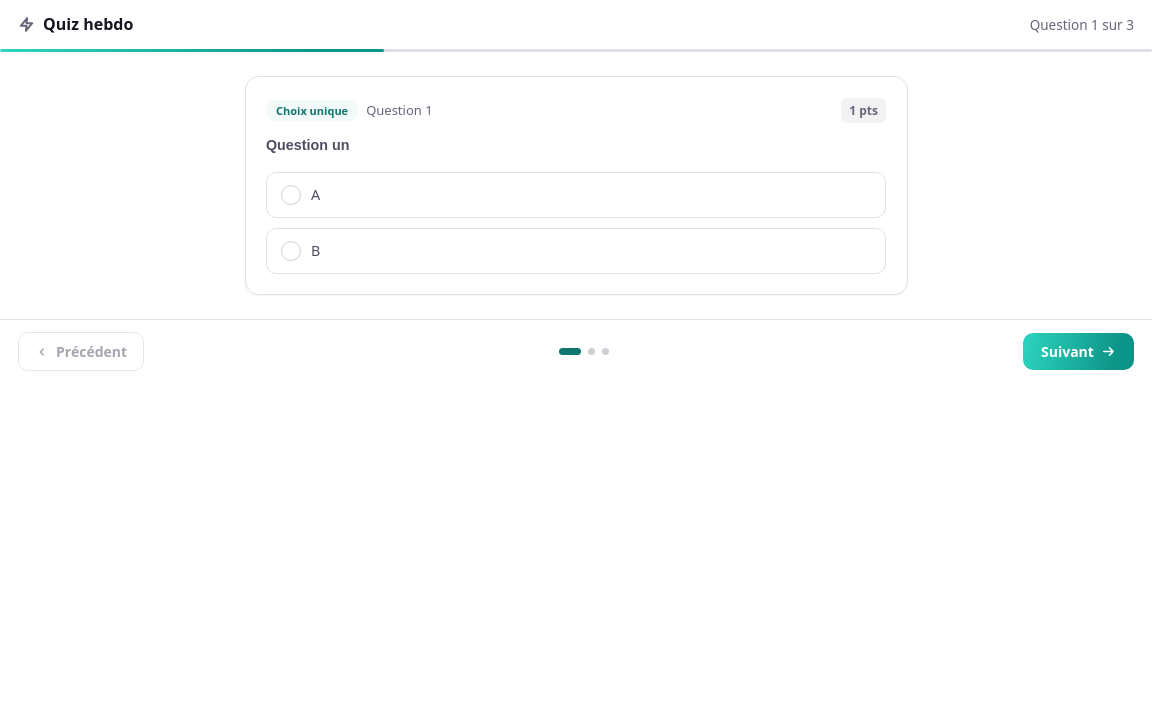
Test: QuizView — phase résumé & révision › rend l’écran de résumé (QuizSummary) après soumission
The width and height of the screenshot is (1152, 720).
Expected: the text "Question un" is shown, 266,136 -> 349,152
Click the button "A" at (291, 195), box 266,172 -> 886,218
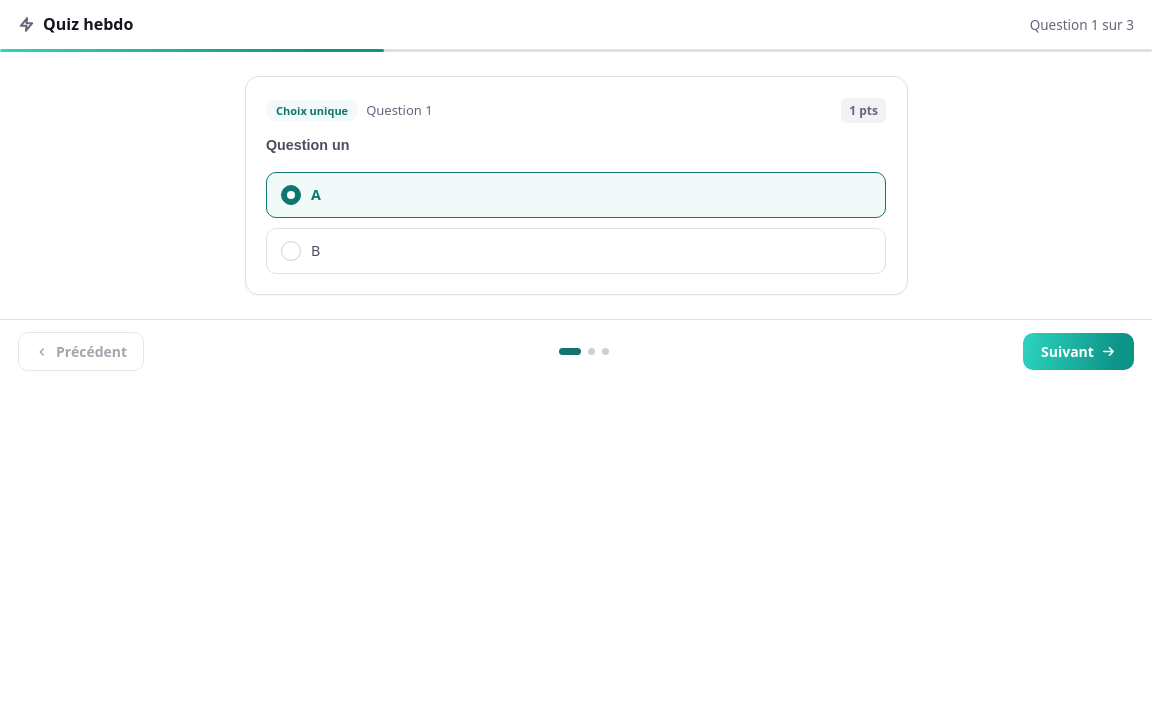
Click the button "Suivant" at (1078, 352), box 1023,333 -> 1134,370
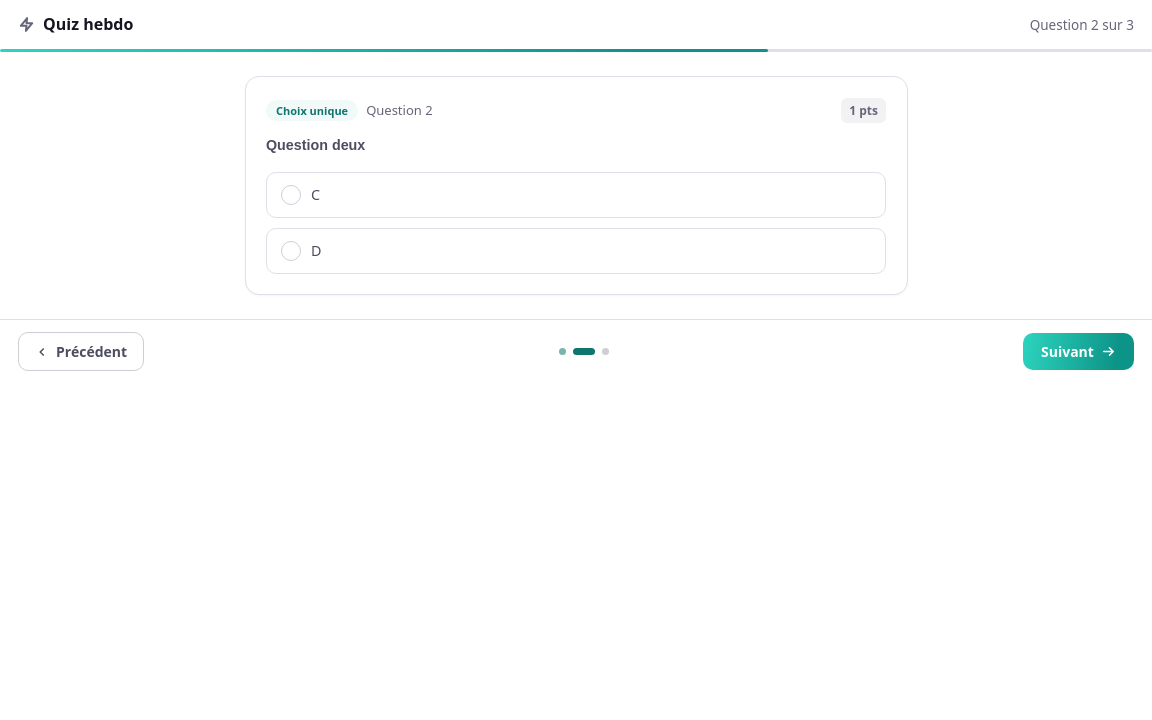
Click the button "Suivant" at (1078, 352), box 1023,333 -> 1134,370
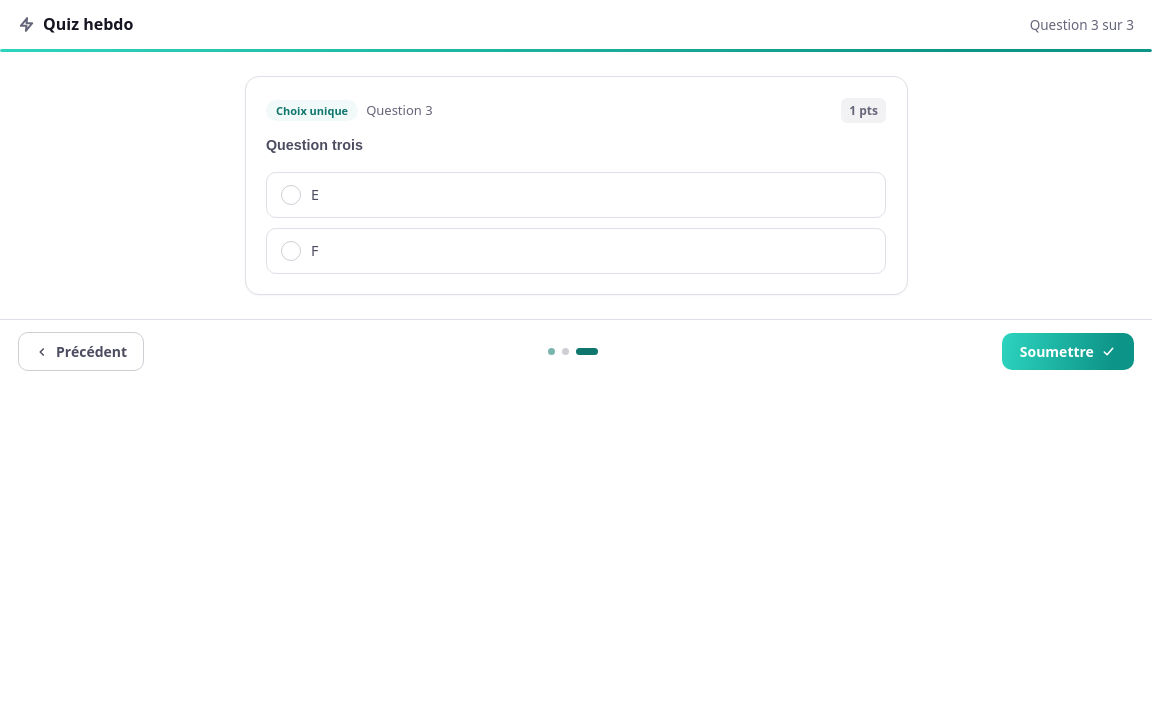
Click the button "Soumettre" at (1068, 352), box 1002,333 -> 1134,370
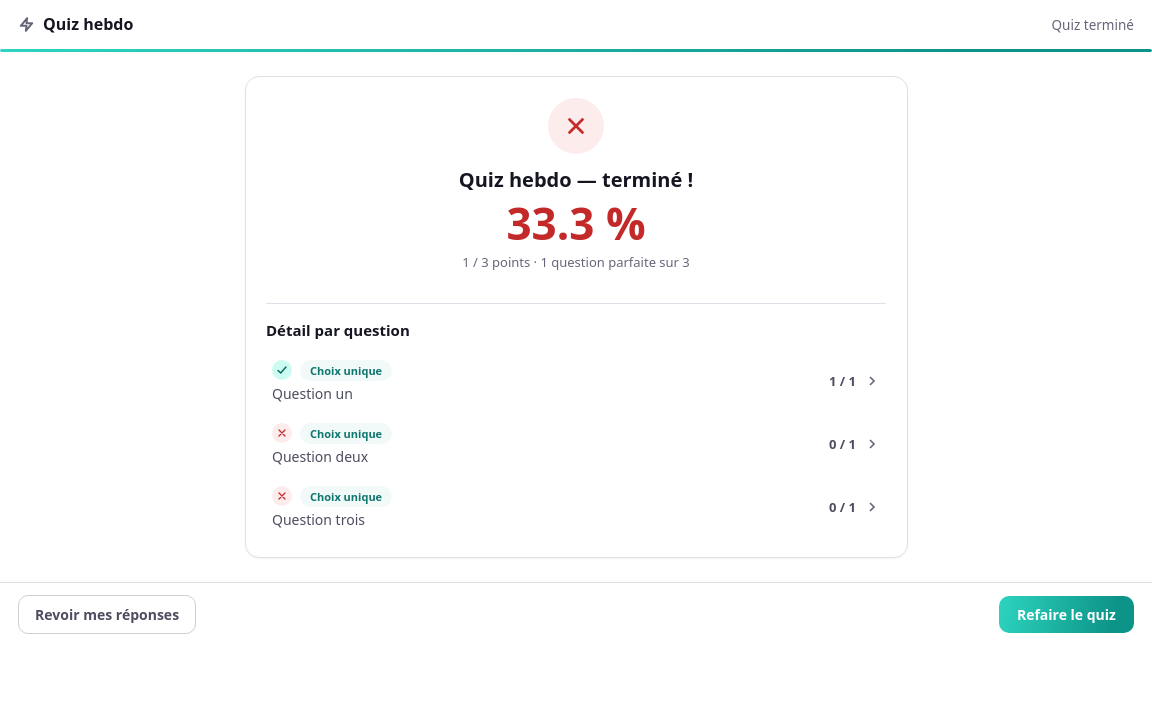
Expected: the text "Quiz terminé" is shown, 1052,16 -> 1134,34
Expected: the heading "Quiz hebdo — terminé !" is shown, 459,166 -> 693,192
Expected: the button "Revoir mes réponses" is shown, 18,595 -> 196,634
